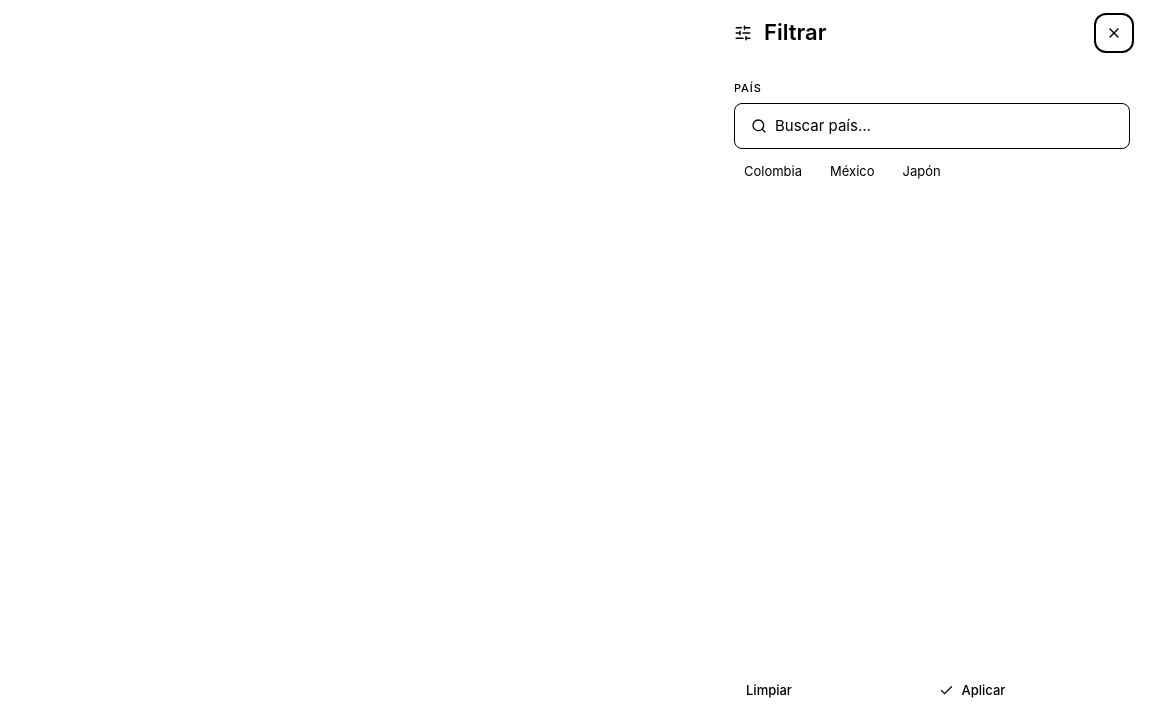
Test: FilterDrawer — autocomplete section › shows empty message when search yields no results
Type "xyz" into the search field with placeholder "Buscar país…" at x=944, y=126, box [775, 115, 1113, 137]
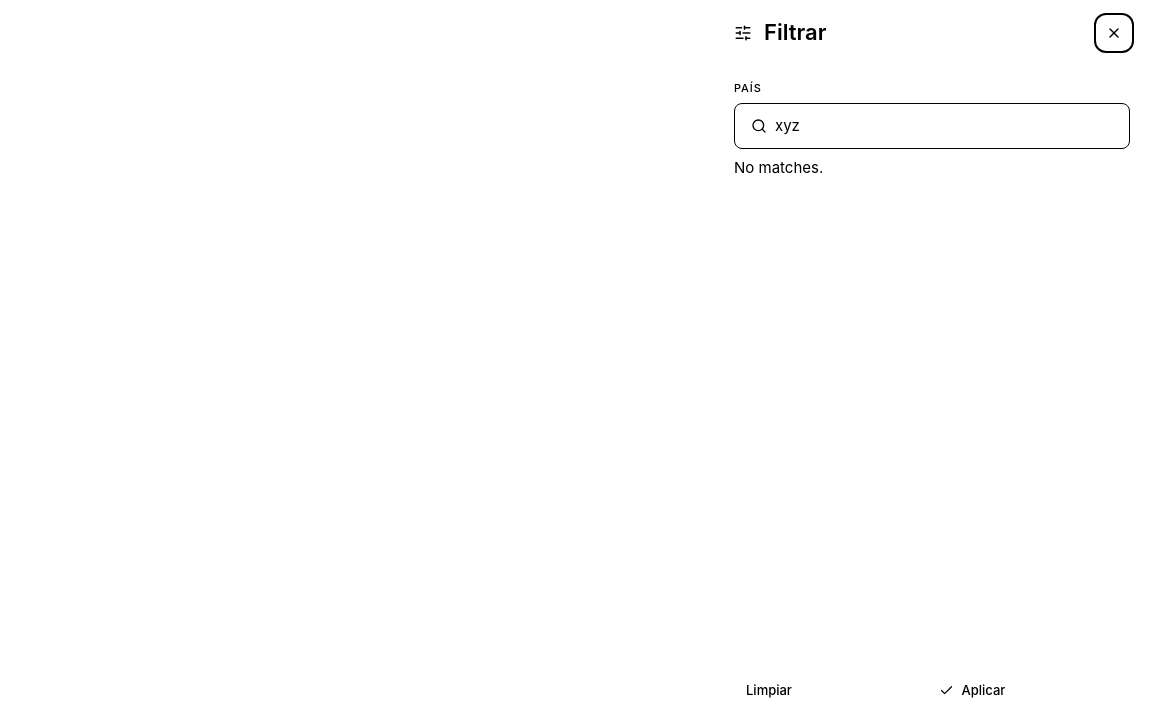
Now the text "No matches." is shown, box [734, 157, 823, 180]
